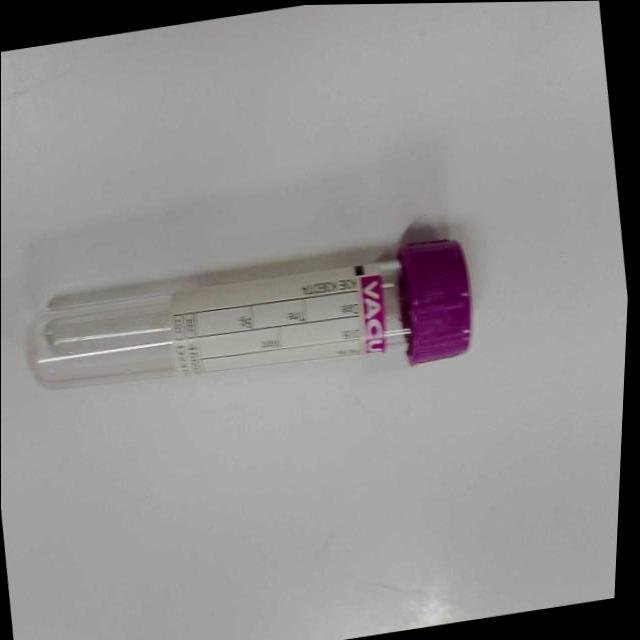Pathological: (3, 2, 628, 637)
Sharps: (27, 237, 474, 391)
